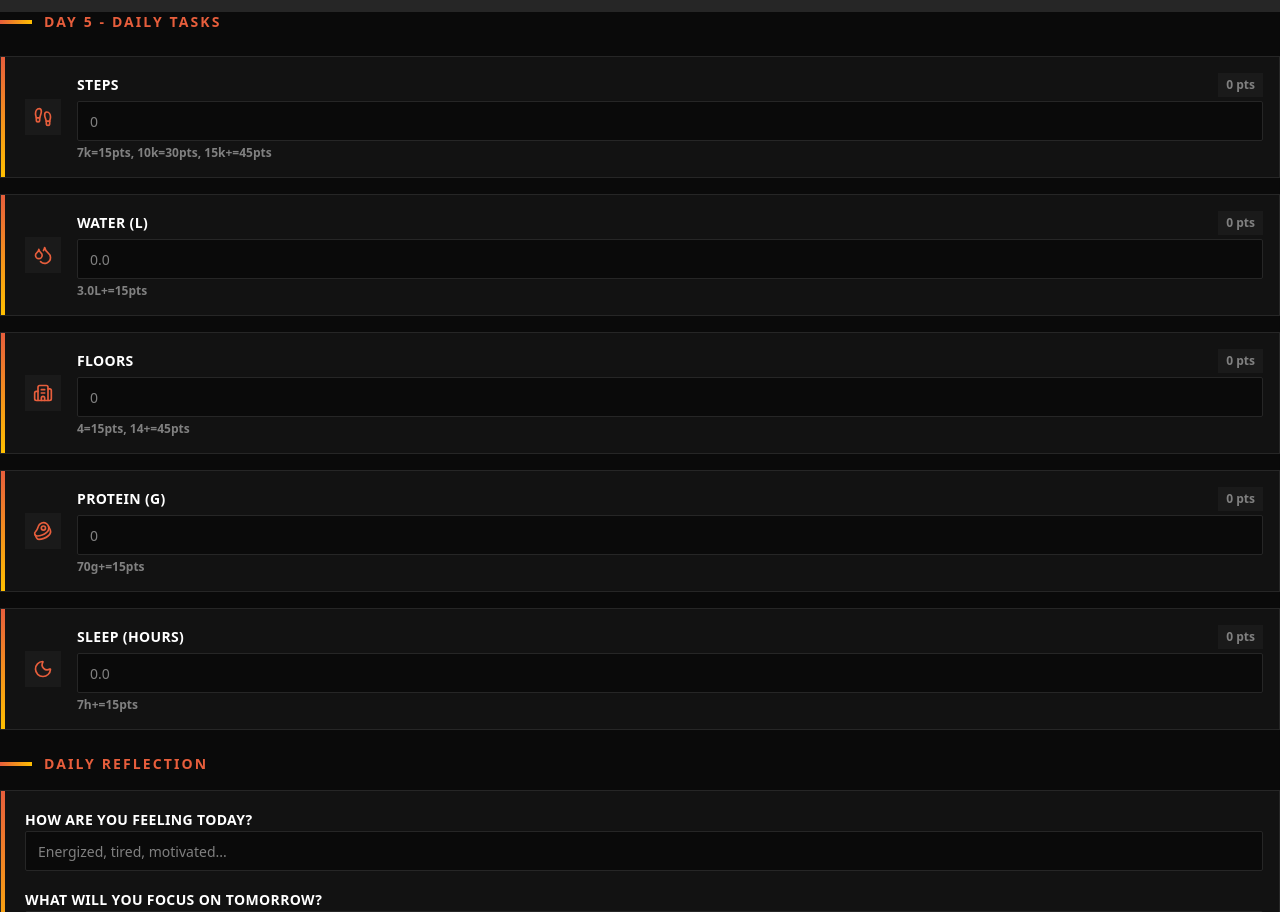
Test: TodaysTasks › points calculation in real-time › calculates water points for 3L+ (15 pts)
The image size is (1280, 912).
Step 1. Type "3.5" into the number field labelled "Water (L)" → (670, 259), box [77,239,1263,279]
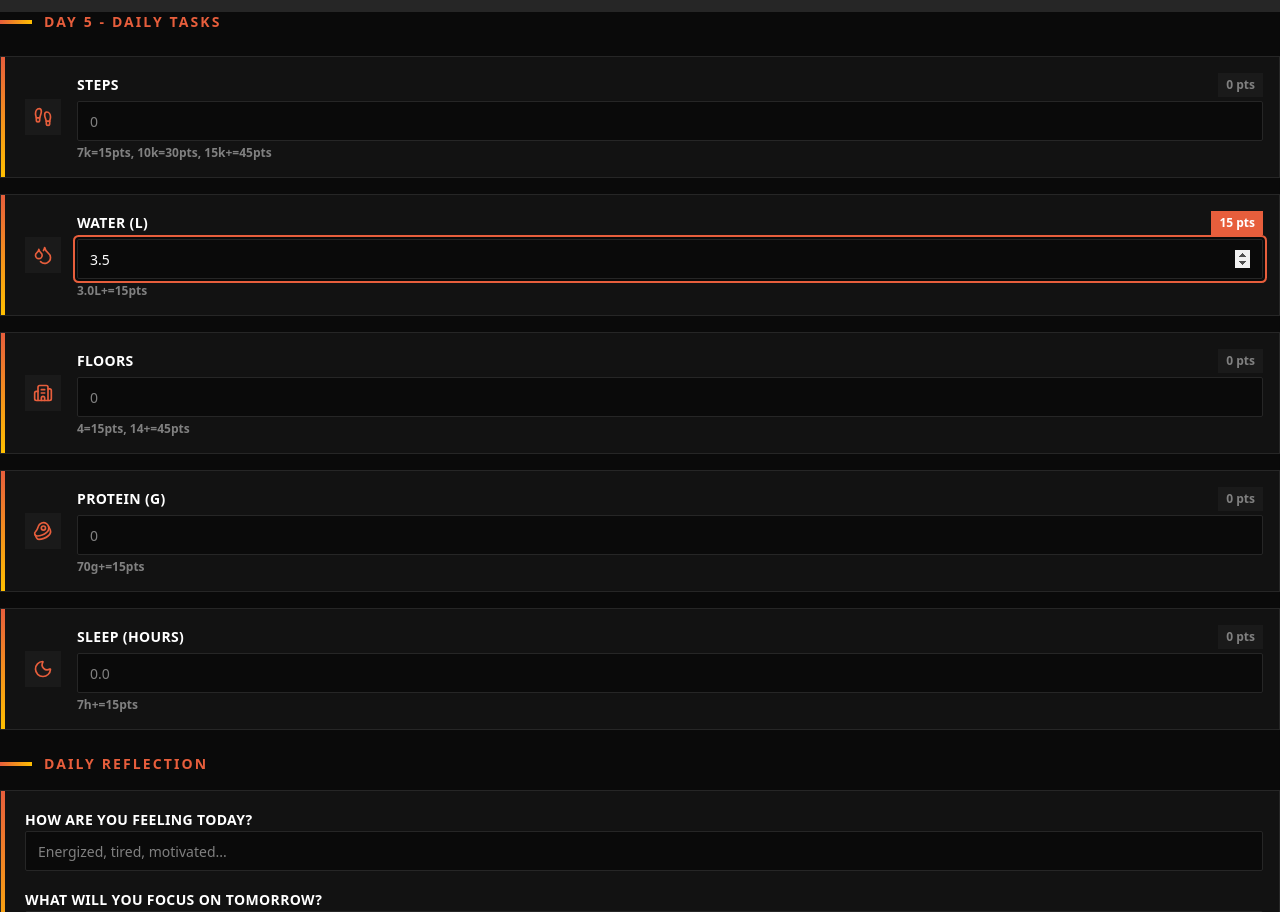
Expected: the text "15 pts" is shown, [1211,211,1263,235]
